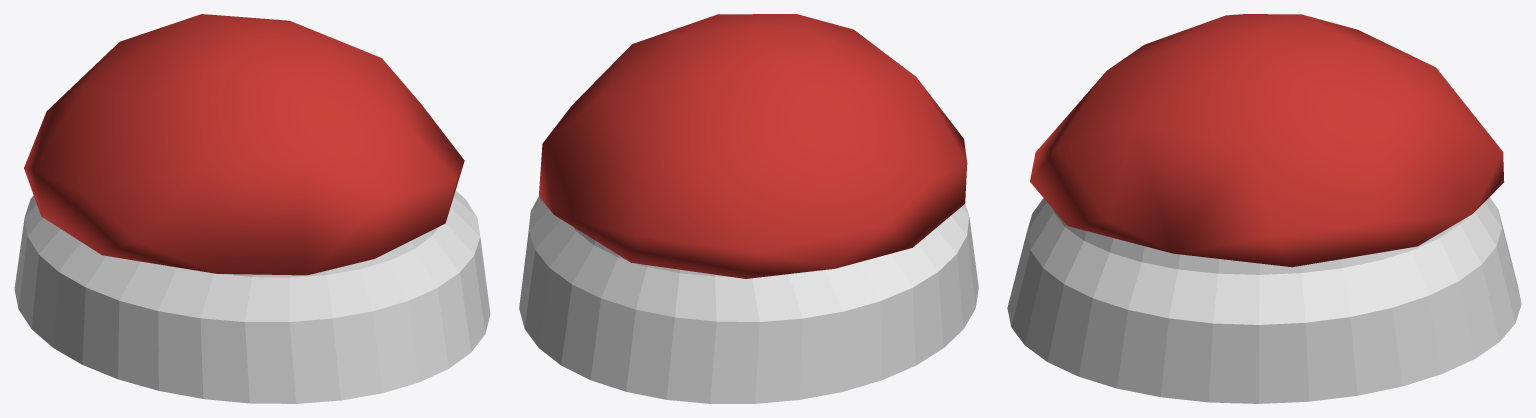
File: RobotHand_Colliders.fbx
The picture shows the model from 3 angles, left to right: view 1: azimuth 30°, elevation 25°; view 2: azimuth 150°, elevation 25°; view 3: azimuth 270°, elevation 25°; orthographic projection.
Visible parts, largest first — view 1: Core_Collider, Palm_Collider; view 2: Core_Collider, Palm_Collider; view 3: Core_Collider, Palm_Collider.
Part boxes in pixels (bbox=[...]): Core_Collider: bbox=[24, 14, 464, 275]; Palm_Collider: bbox=[14, 190, 490, 403]; Core_Collider: bbox=[539, 14, 967, 278]; Palm_Collider: bbox=[519, 196, 978, 403]; Core_Collider: bbox=[1030, 14, 1503, 267]; Palm_Collider: bbox=[1007, 197, 1521, 403].
Bounding box in the file's own units: 0.4618 × 0.3009 × 0.5132.
